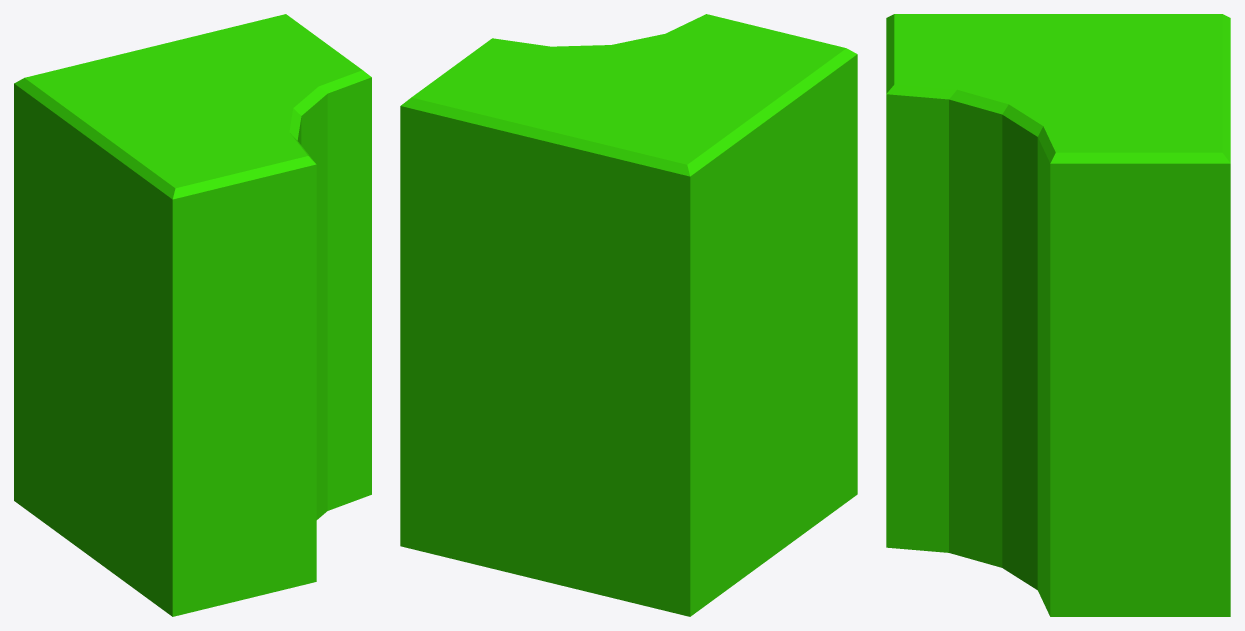
The model's file is round_2x3_03.fbx.
The picture shows the model from 3 angles, left to right: view 1: azimuth 30°, elevation 25°; view 2: azimuth 150°, elevation 25°; view 3: azimuth 270°, elevation 25°; orthographic projection. The views are drawn at different scales.
Visible parts, largest first — view 1: round_2x3_03; view 2: round_2x3_03; view 3: round_2x3_03.
Part boxes in pixels (x1,y1,x2,y2): round_2x3_03: (14, 14, 371, 616); round_2x3_03: (400, 14, 857, 616); round_2x3_03: (886, 14, 1230, 616).
Size of the model in its own units: 210 by 310 by 210.
